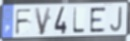4: (54, 6, 69, 37)
E: (89, 6, 107, 34)
F: (15, 8, 34, 36)
J: (109, 6, 123, 33)
L: (72, 7, 86, 34)
V: (34, 6, 52, 37)
